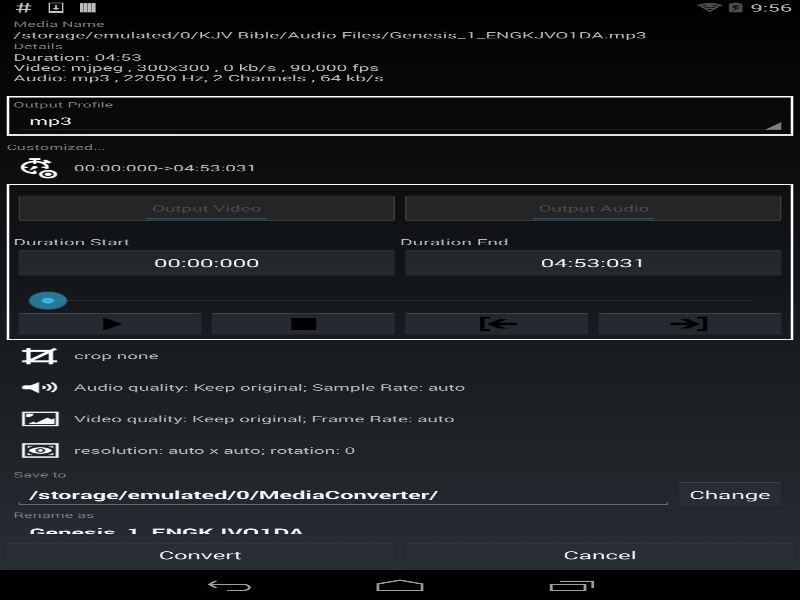Button: (0, 540, 400, 570), (400, 540, 800, 570), (13, 247, 400, 277), (400, 247, 786, 277), (206, 310, 400, 336), (13, 310, 206, 336), (400, 310, 593, 336), (593, 310, 786, 336), (673, 479, 786, 509)
Input: (13, 520, 786, 544), (13, 482, 673, 507)
